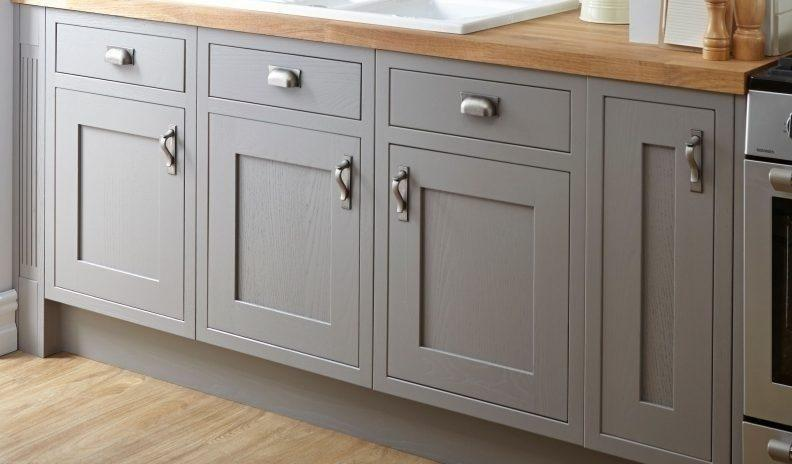cabinet_door: (388, 160, 579, 400), (606, 113, 727, 455), (199, 130, 361, 345), (54, 101, 190, 304), (734, 168, 787, 413), (396, 78, 573, 141), (213, 48, 358, 106), (59, 27, 186, 85), (737, 434, 792, 464)
handle: (680, 127, 711, 192), (388, 163, 417, 223), (331, 153, 359, 212), (455, 94, 507, 122), (157, 124, 184, 177), (261, 65, 305, 93), (100, 44, 139, 70), (767, 170, 792, 203), (763, 438, 792, 463)
